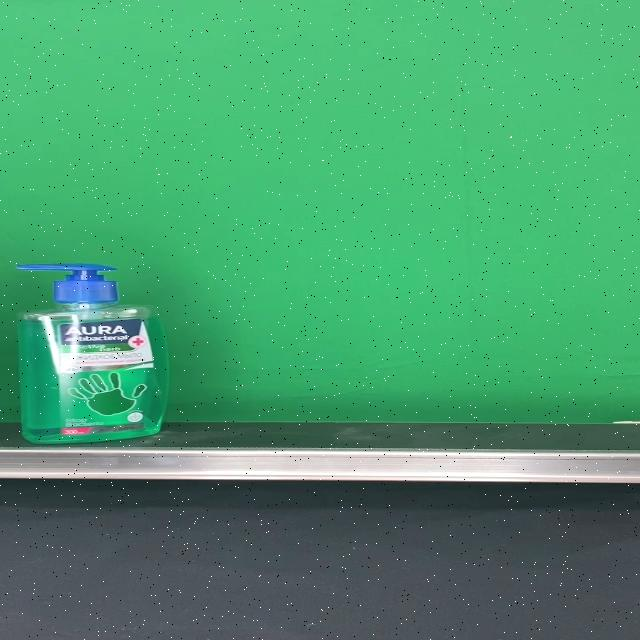Bottle: (16, 263, 169, 443)
Cap: (17, 263, 116, 305)
